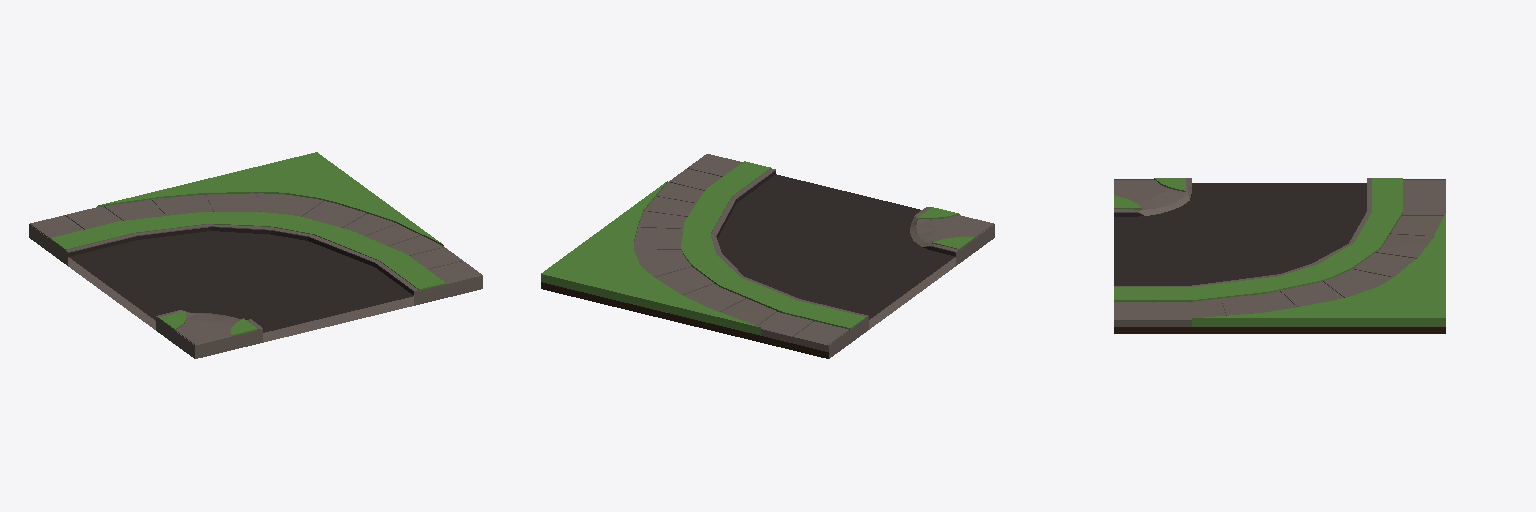
Rendered from corner_road.obj.
3 views of the same model, side by side, from view 1: azimuth 30°, elevation 25°; view 2: azimuth 150°, elevation 25°; view 3: azimuth 270°, elevation 25° (orthographic).
Parts seen in each view (by area): view 1: corner_road_h.001; view 2: corner_road_h.001; view 3: corner_road_h.001.
Boxes of the visible parts, <box> form: corner_road_h.001: <box>29,152,482,358</box>; corner_road_h.001: <box>541,154,994,358</box>; corner_road_h.001: <box>1114,178,1445,333</box>.
Bounding box in the file's own units: 22.11 × 1.16 × 22.11.